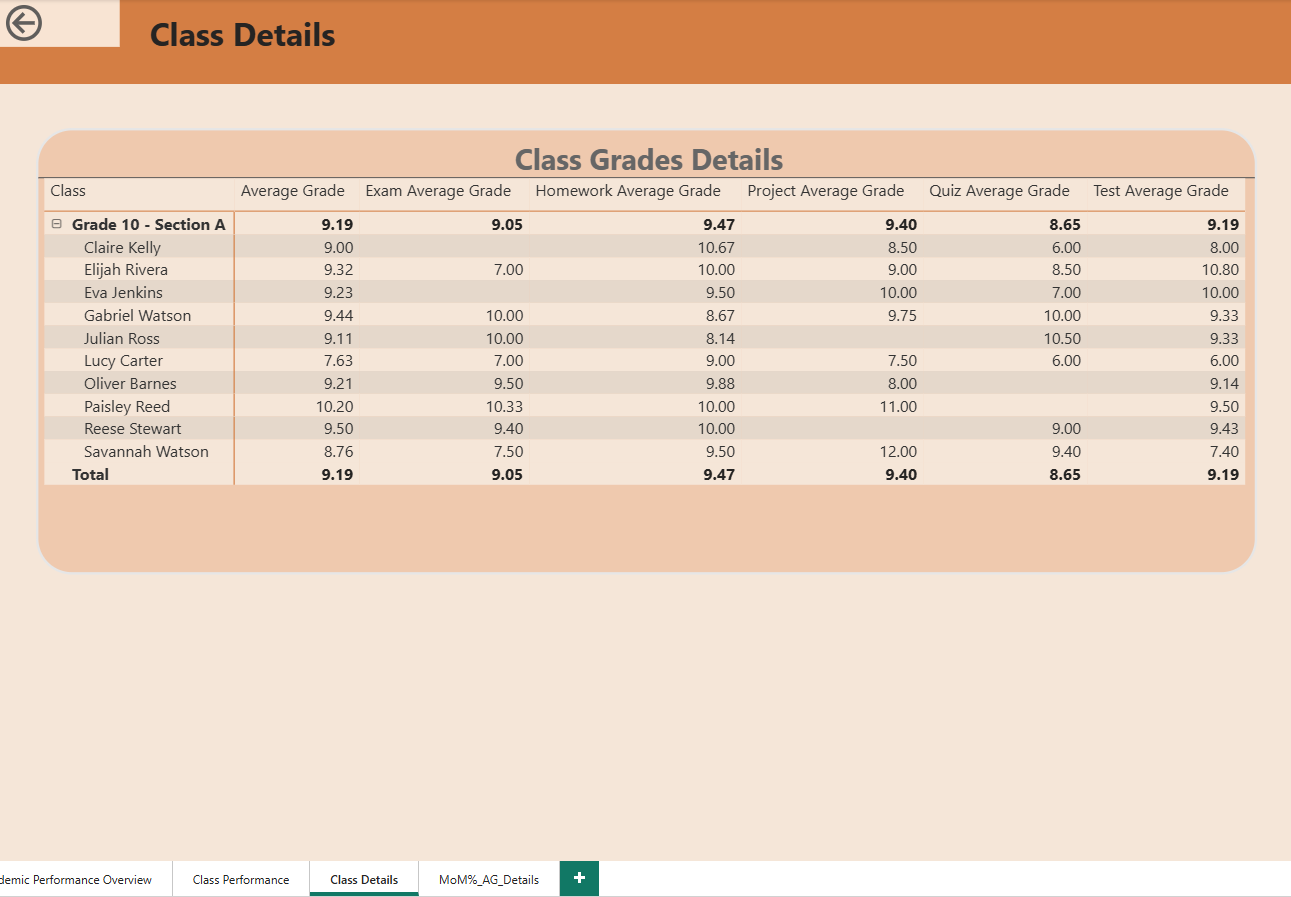

Layout of this report page (visuals, bound fields, positions):
{"tool":"powerbi","page":{"name":"Class Details","canvas":[1080,720],"ordinal":2},"visuals":[{"type":"pivotTable","title":"Class  Grades  Details","fields":{"Rows":["classes.class_name","students.student_name"],"Values":["_Measures.Average Grade","_Measures.Exam Average Grade","_Measures.Homework Average Grade","_Measures.Project Average Grade","_Measures.Quiz Average Grade","_Measures.Test Average Grade"]},"box":[30.9,131.1,1018.2,373.4],"z":0},{"type":"textbox","box":[0,0,1280.2,58],"z":1000},{"type":"actionButton","box":[0,0,100,40],"z":2000},{"type":"pageNavigator","box":[30.9,72.7,1018.2,58.5],"z":2001}]}

Visuals, with their boxes on the page's 1080x720 design canvas (x1, y1, x2, y2). These are canvas units, not pixel positions in the 1291x897 screenshot, which may show the page scaled, cropped or inside an application window:
"Class  Grades  Details" pivotTable: [left=31, top=131, right=1049, bottom=504]
textbox: [left=0, top=0, right=1280, bottom=58]
actionButton: [left=0, top=0, right=100, bottom=40]
pageNavigator: [left=31, top=73, right=1049, bottom=131]
